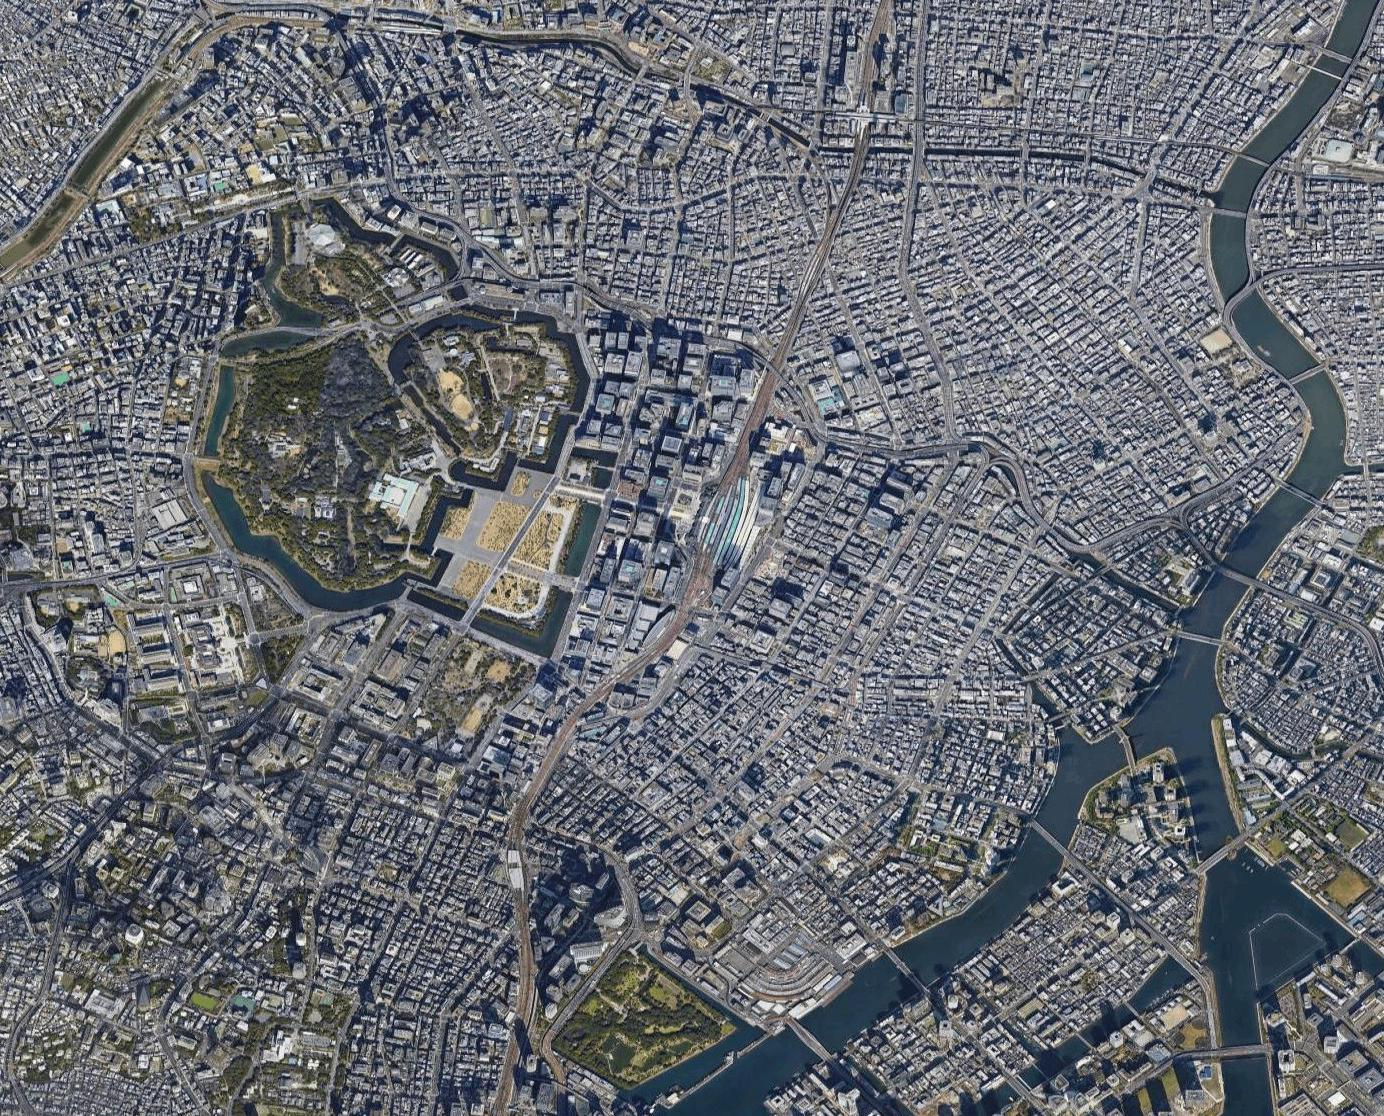bridge: (874, 937, 928, 998), (783, 1018, 836, 1070), (1199, 828, 1247, 880), (1031, 817, 1072, 861), (1209, 559, 1260, 590), (1209, 1040, 1276, 1062), (1222, 280, 1258, 320), (1284, 475, 1321, 511), (1109, 729, 1137, 772), (1169, 625, 1222, 646), (1289, 362, 1325, 387), (1236, 148, 1272, 170), (1205, 205, 1251, 222), (1324, 46, 1358, 64)
train_station: (675, 466, 787, 605)
